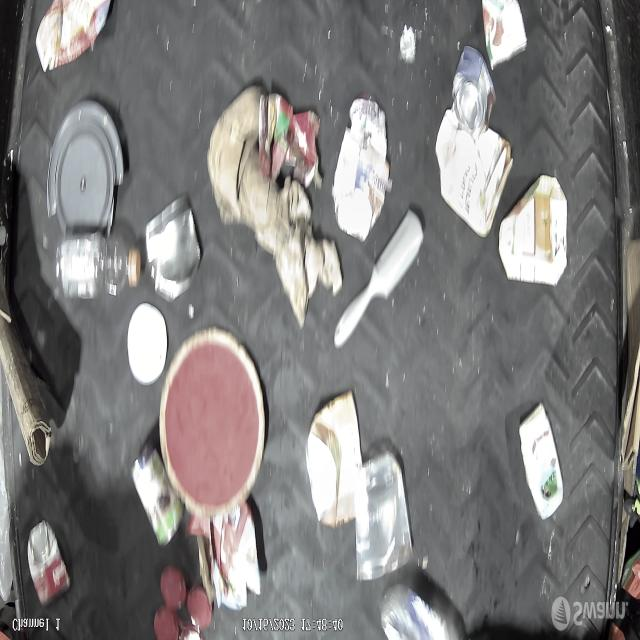can: (133, 437, 187, 549), (148, 198, 200, 299), (452, 50, 494, 133), (27, 520, 69, 602)
plastic_bottle: (54, 235, 140, 302)
